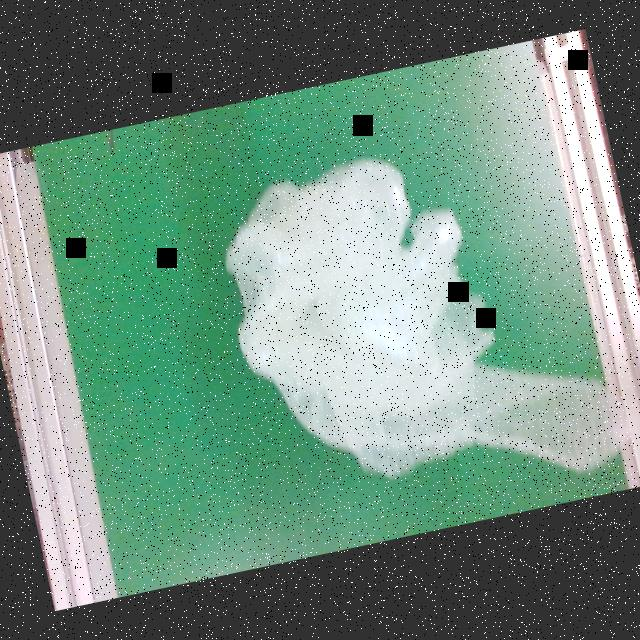scrap_plastic: (206, 120, 620, 538)
